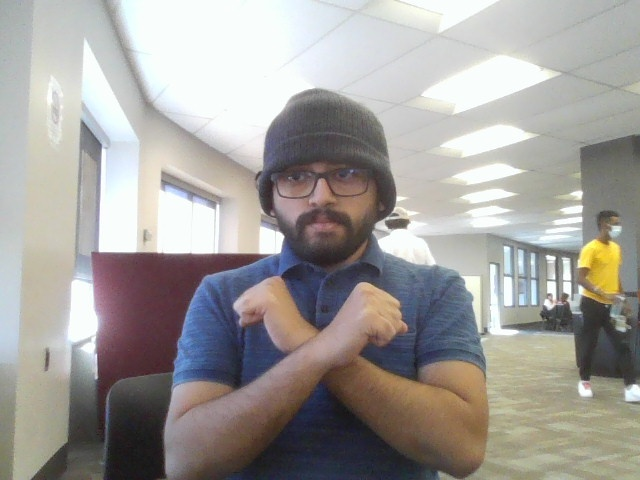start: (225, 270, 427, 480)
